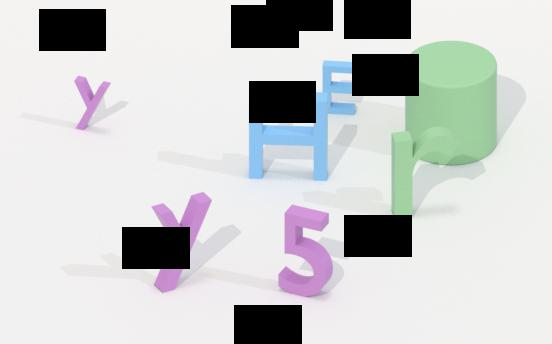5: (273, 204, 334, 299)
E-hoa: (317, 57, 362, 111)
H-hoa: (243, 86, 330, 185)
R: (389, 124, 458, 223)
Y: (148, 196, 216, 293), (69, 75, 115, 133)
tru: (407, 46, 493, 166)
